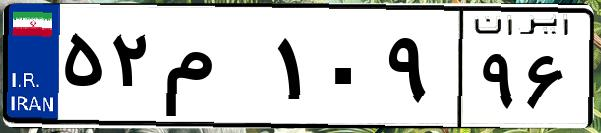0: (330, 28, 385, 110)
1: (270, 28, 330, 110)
2: (110, 28, 158, 98)
5: (57, 26, 110, 100)
6: (525, 38, 570, 115)
9: (385, 28, 445, 110), (475, 38, 525, 113)
م: (158, 20, 270, 120)
